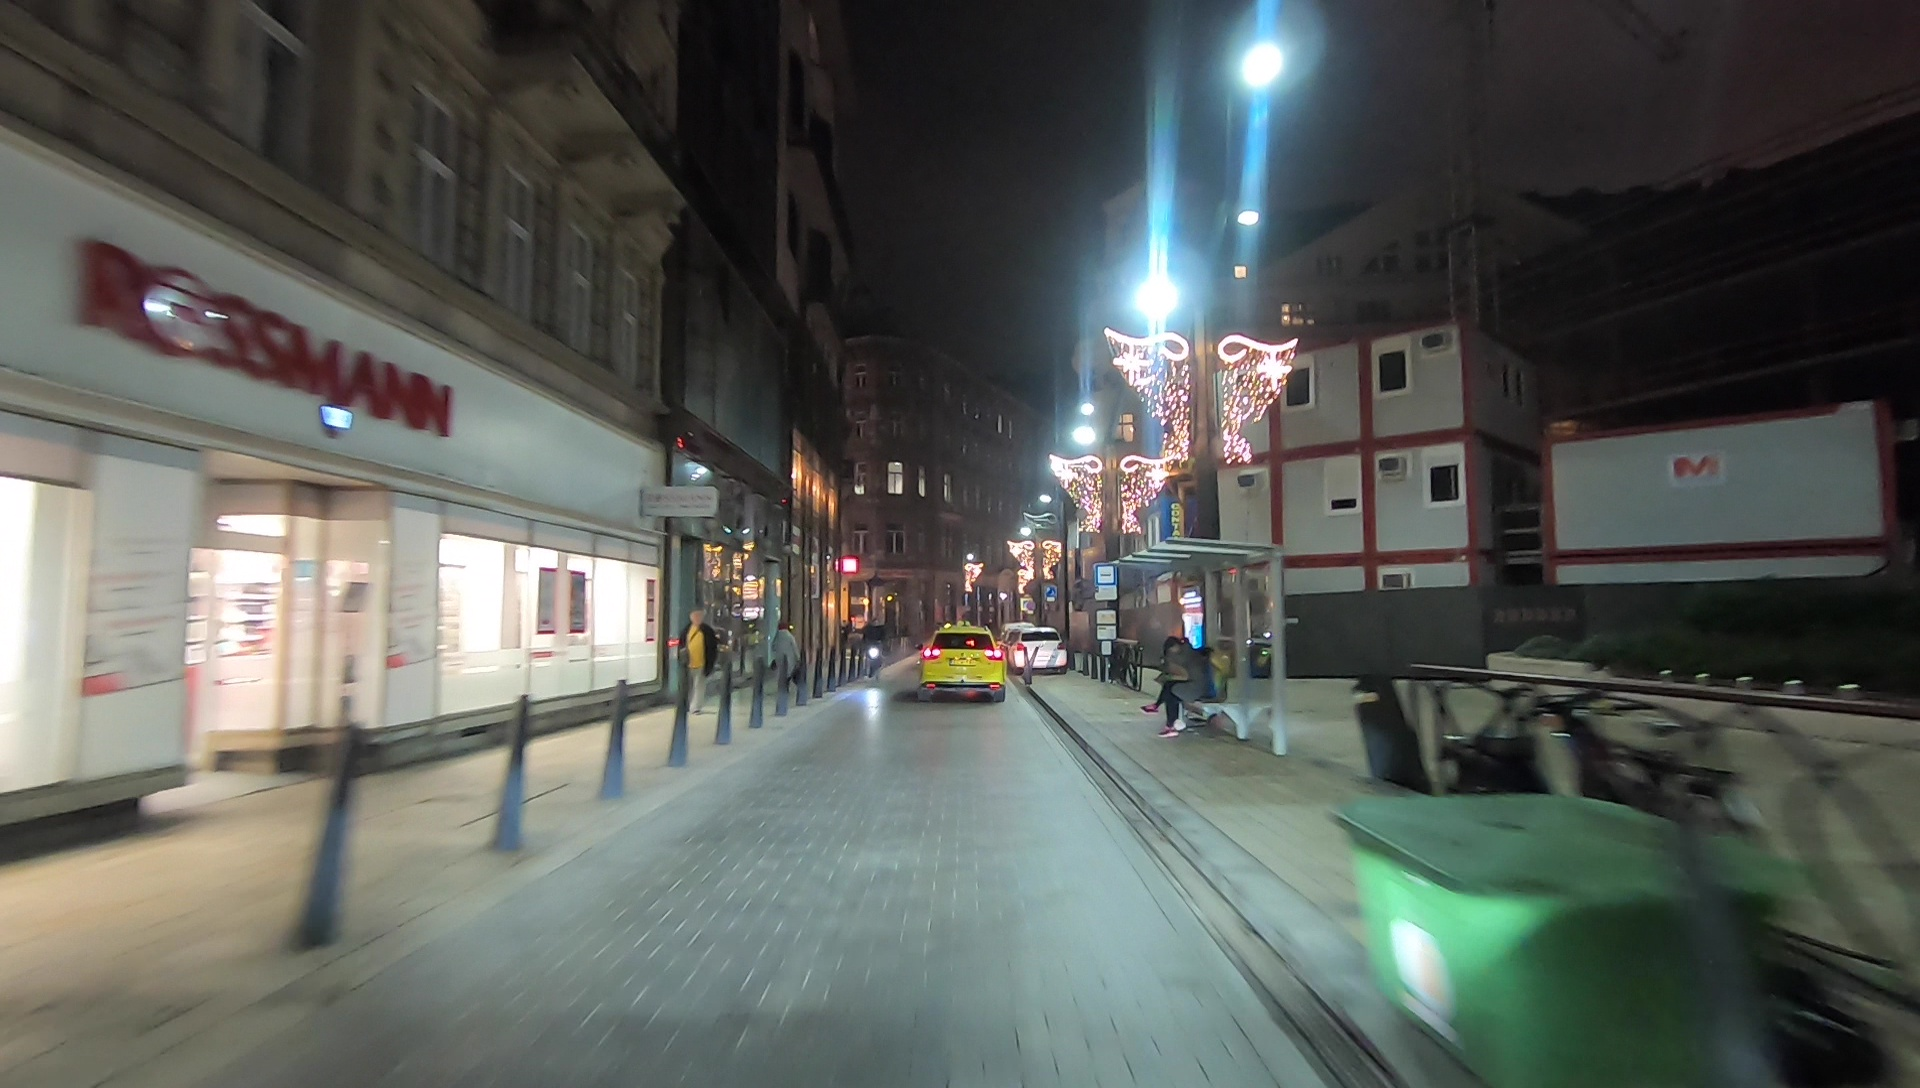person: (679, 612, 714, 717), (771, 619, 803, 697)
